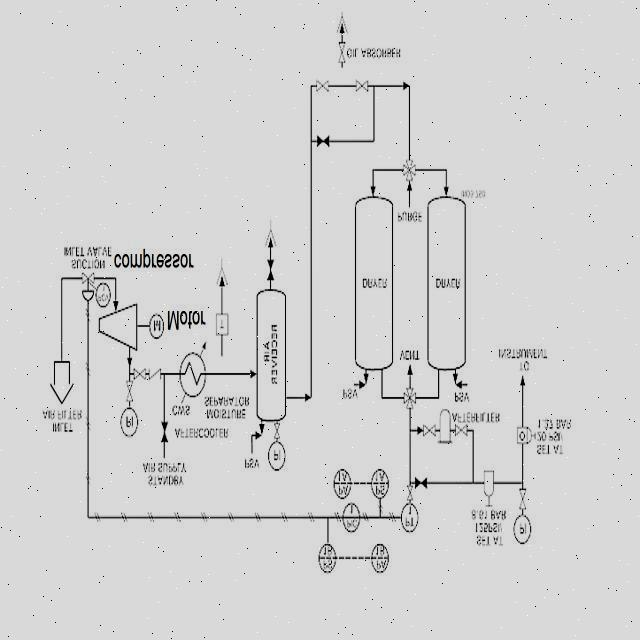4 Way Gate Valve: (400, 158, 420, 186), (403, 383, 416, 411)
Bleeder Valve: (263, 256, 276, 288), (157, 416, 169, 448), (316, 129, 330, 152)
Check Valve: (146, 365, 162, 387)
Gate Valve: (314, 74, 334, 99), (352, 75, 372, 96), (122, 376, 136, 405), (515, 486, 528, 512), (419, 423, 436, 442), (131, 366, 146, 384), (454, 424, 468, 438), (407, 483, 415, 505)
Pneumatic-Diaphragm Gate Valve: (78, 271, 96, 304)
